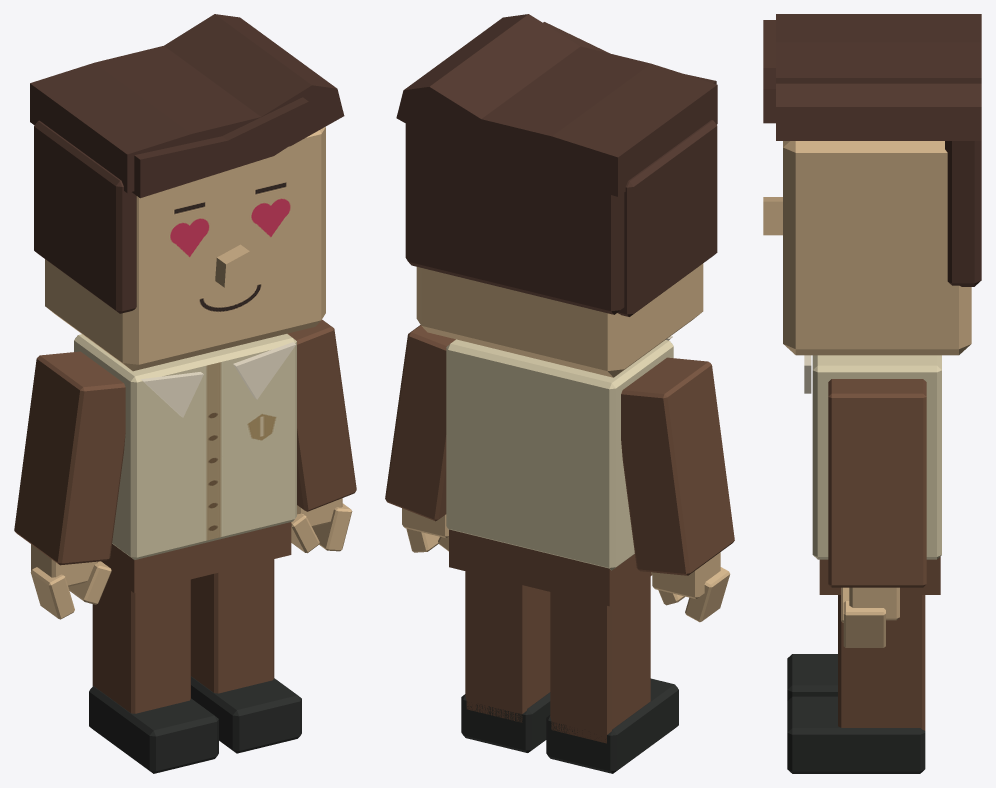
Rendered from apaixonado.glb.
3 views of the same model, side by side, from view 1: azimuth 30°, elevation 25°; view 2: azimuth 150°, elevation 25°; view 3: azimuth 270°, elevation 25° (orthographic). The views are drawn at different scales.
Parts seen in each view (by area): view 1: Explorador_HelloYotta; view 2: Explorador_HelloYotta; view 3: Explorador_HelloYotta.
Part boxes in pixels (x1=…): Explorador_HelloYotta: x1=14, y1=14, x2=356, y2=773; Explorador_HelloYotta: x1=385, y1=14, x2=734, y2=773; Explorador_HelloYotta: x1=763, y1=14, x2=981, y2=773.
Bounding box in the file's own units: 1.31 × 2.72 × 0.775.
1 material, 1 textured.
